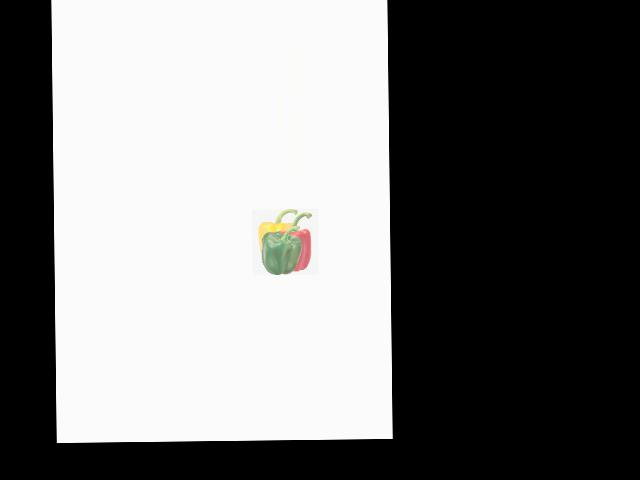bell_pepper: (280, 210, 319, 273)
